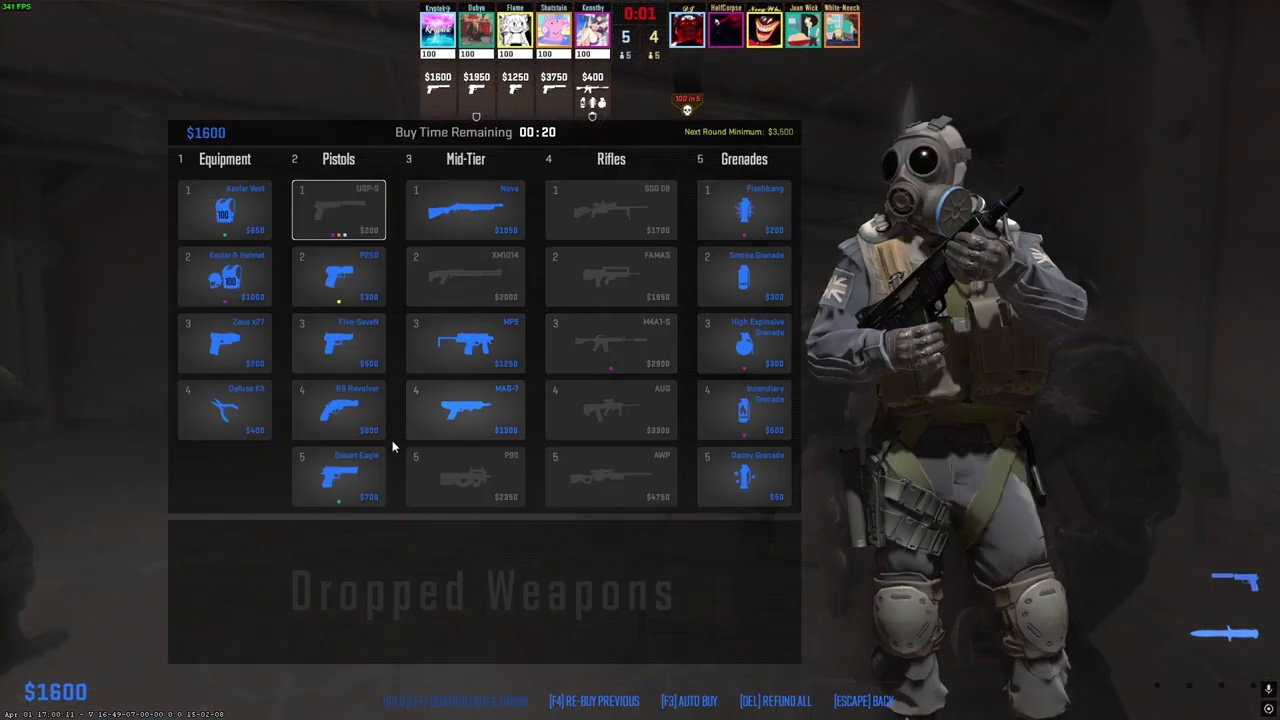CT: (850, 121, 1073, 720)
